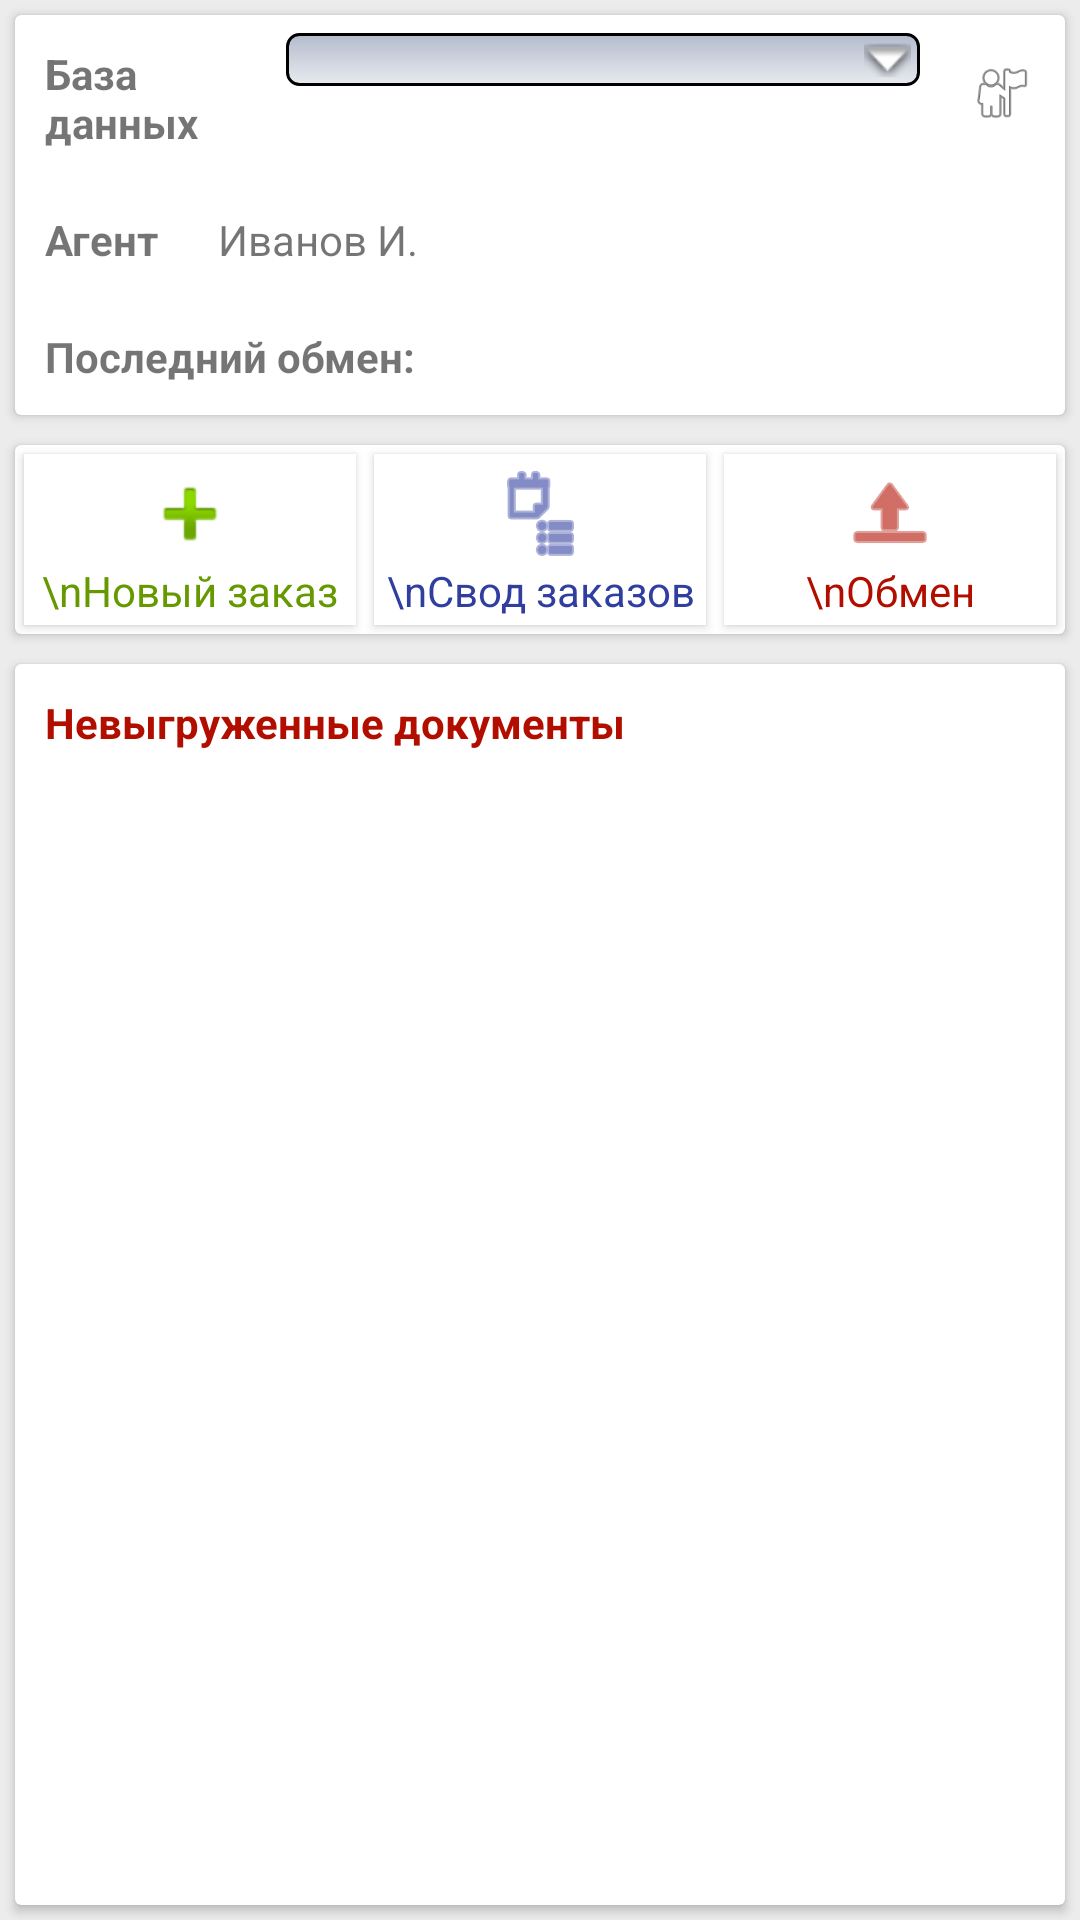

Named icons in this screenshot (1080 × 1920) and their bounding boxes, (x1, y1, x2, y2):
myplaces: (977, 68, 1027, 118)
